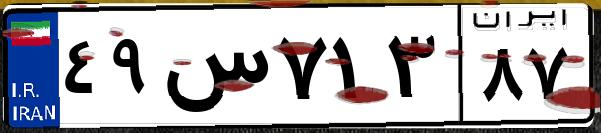1: (330, 28, 385, 110)
3: (385, 28, 445, 110)
4: (57, 26, 110, 100)
7: (270, 28, 330, 110), (525, 38, 570, 115)
8: (475, 38, 525, 113)
9: (110, 28, 158, 98)
س: (158, 20, 270, 120)
